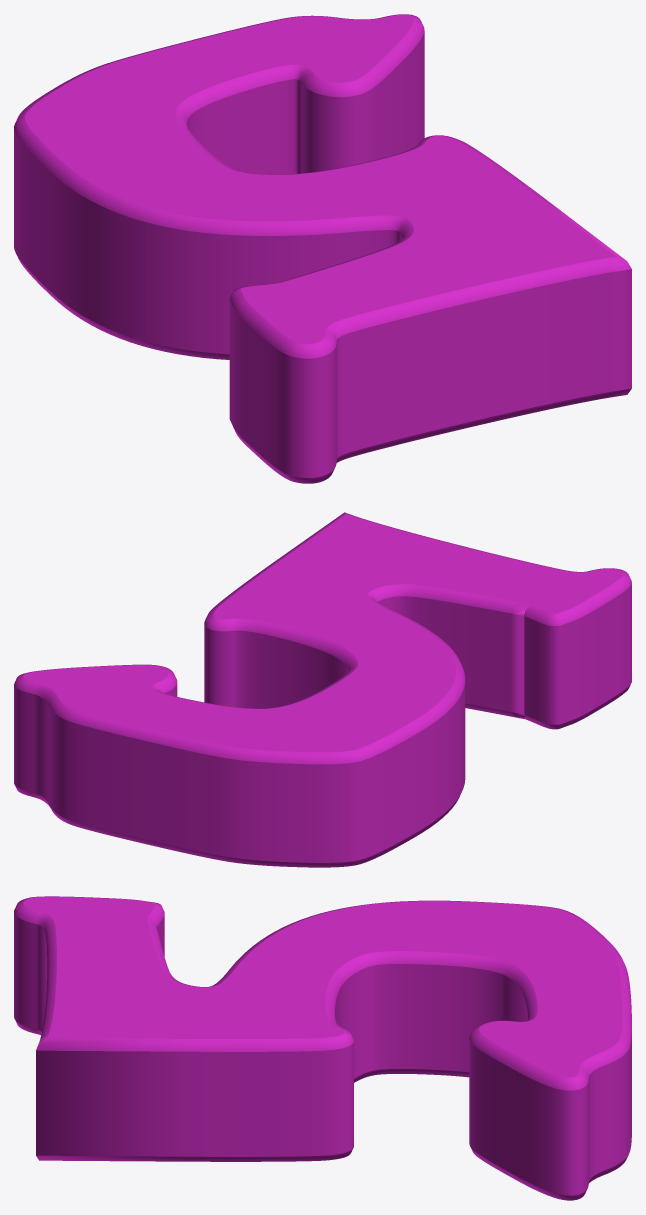
The model's file is Bubble_Number5.fbx.
3 renders of one model, top to bottom at view 1: azimuth 30°, elevation 25°; view 2: azimuth 150°, elevation 25°; view 3: azimuth 270°, elevation 25°, orthographic. The views are drawn at different scales.
Parts seen in each view (by area): view 1: BubbleNumber_5; view 2: BubbleNumber_5; view 3: BubbleNumber_5.
Part boxes in pixels (<box>): BubbleNumber_5: <box>14,14,631,483</box>; BubbleNumber_5: <box>14,512,631,867</box>; BubbleNumber_5: <box>14,896,631,1200</box>.
Bounding box in the file's own units: 0.4638 × 0.14 × 0.6403.
